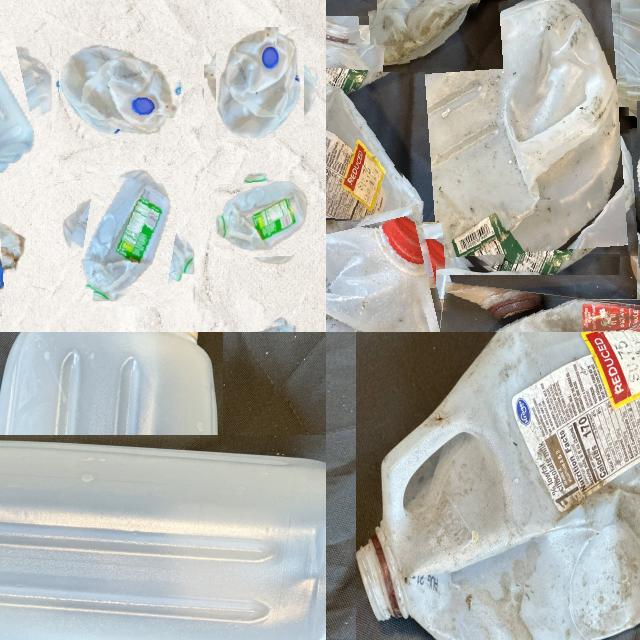milk-jug: (365, 332, 640, 640), (0, 370, 286, 640), (362, 0, 634, 268), (326, 37, 407, 243), (68, 174, 191, 298), (326, 213, 453, 332), (56, 37, 184, 142), (209, 31, 310, 132), (218, 174, 306, 262), (0, 34, 43, 166)
